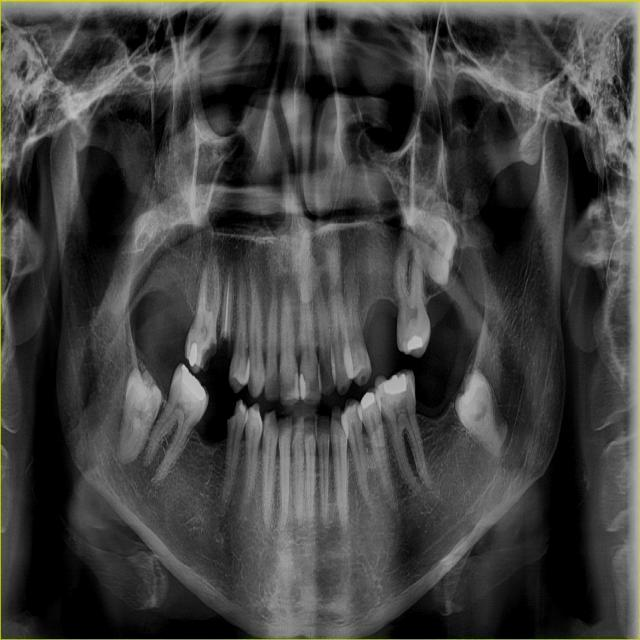Caries: (199, 338, 217, 370), (227, 402, 240, 419)
Filling: (182, 365, 205, 401), (383, 373, 407, 394), (285, 371, 300, 399), (299, 373, 308, 400), (407, 335, 423, 350), (188, 341, 197, 367), (361, 394, 375, 409)
Missing teeth: (360, 296, 404, 369), (412, 371, 457, 422), (164, 292, 195, 354), (194, 397, 226, 444)
Root Piece: (217, 264, 234, 359)
impacted tooth: (456, 369, 502, 458), (397, 211, 453, 282), (117, 371, 161, 461)
